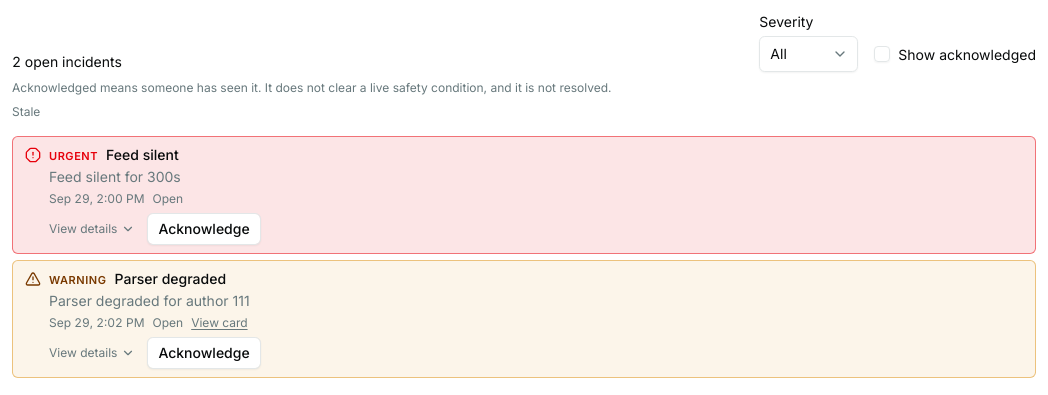
Test case: AlertList › filters by severity
Expected: the text "Feed silent for 300s" is shown, top-left (49, 168), bottom-right (181, 185)
Select "Warning" in the dropdown labelled "Severity" at (809, 54), box top-left (759, 36), bottom-right (858, 72)
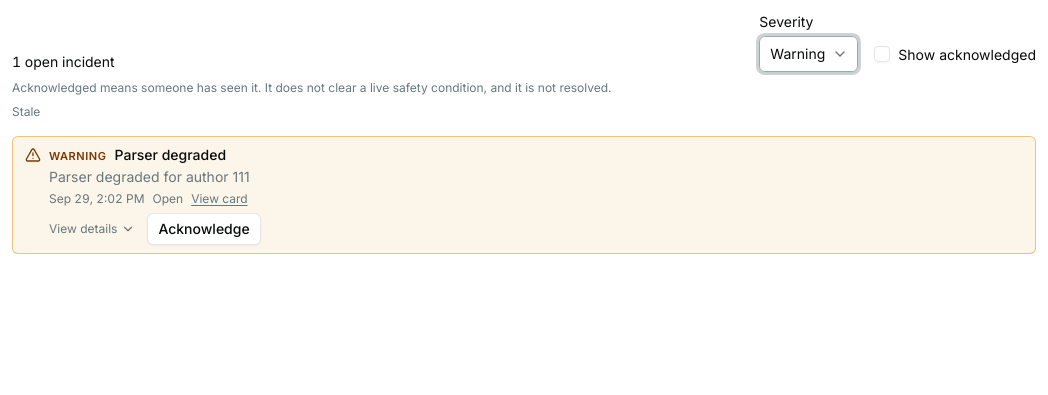
Expected: the text "Parser degraded for author 111" is shown, top-left (49, 168), bottom-right (250, 185)
Expected: the text "Feed silent for 300s" is gone
